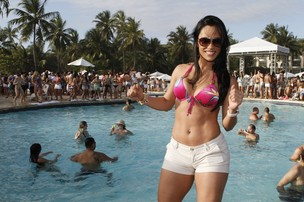Humano: (153, 13, 240, 202), (275, 142, 304, 194), (74, 139, 115, 166), (27, 142, 63, 167), (237, 123, 261, 145), (111, 120, 134, 140), (13, 72, 27, 104), (66, 70, 80, 99), (72, 122, 90, 142), (31, 72, 43, 102), (51, 70, 63, 100), (264, 70, 275, 99), (254, 69, 264, 100), (262, 106, 278, 125), (110, 73, 121, 99), (93, 72, 103, 99), (247, 107, 262, 123), (81, 73, 90, 98), (104, 74, 111, 101)
